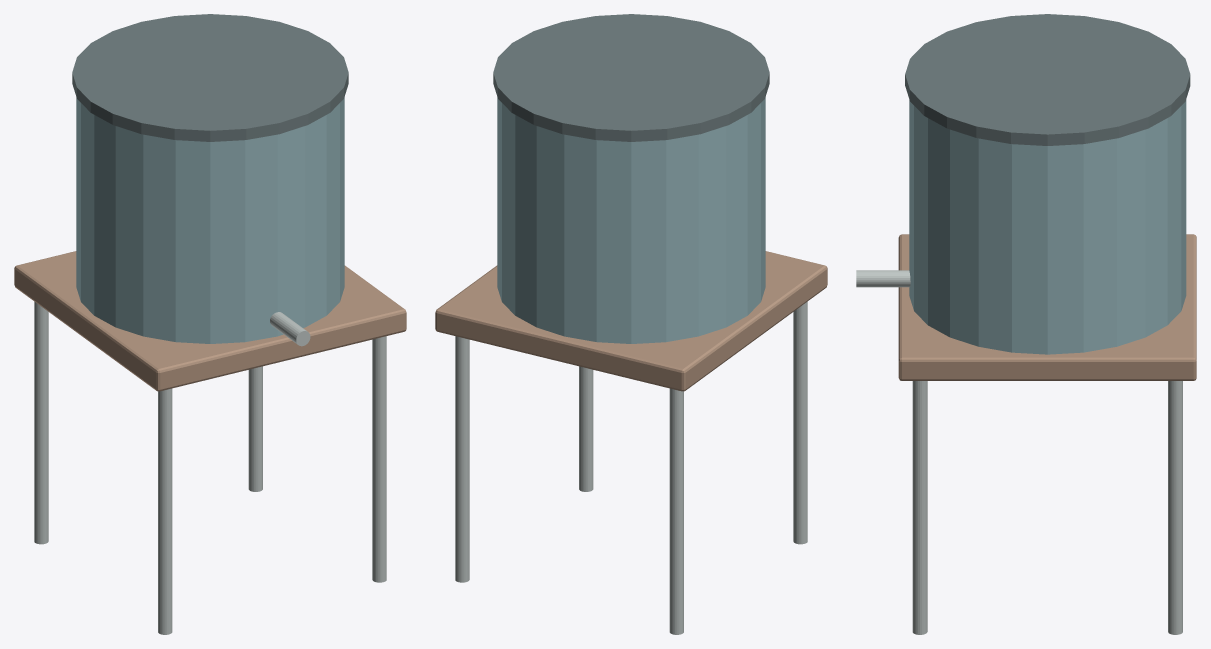
The picture shows the model from 3 angles, left to right: view 1: azimuth 30°, elevation 25°; view 2: azimuth 150°, elevation 25°; view 3: azimuth 270°, elevation 25°; orthographic projection. The views are drawn at different scales.
Parts seen in each view (by area): view 1: water tank, tank lid, tank platform, support.002, support, support.001, support.003, outlet; view 2: water tank, tank lid, tank platform, support.003, support.001, support, support.002; view 3: water tank, tank lid, tank platform, support.002, support.003, outlet.
Part boxes in pixels (x1,y1,x2,y2): water tank: (76, 97, 344, 343); tank lid: (72, 14, 348, 141); tank platform: (14, 251, 406, 391); support.002: (372, 336, 386, 582); support: (158, 388, 172, 634); support.001: (34, 301, 48, 544); support.003: (248, 366, 262, 491); outlet: (270, 312, 310, 346); water tank: (497, 97, 765, 343); tank lid: (493, 14, 769, 141); tank platform: (435, 251, 827, 391); support.003: (455, 336, 469, 582); support.001: (669, 388, 683, 634); support: (793, 301, 807, 544); support.002: (579, 366, 593, 491); water tank: (909, 100, 1186, 354); tank lid: (905, 14, 1190, 145); tank platform: (898, 234, 1196, 380); support.002: (912, 381, 927, 634); support.003: (1168, 381, 1182, 634); outlet: (856, 270, 910, 287).
Bounding box in the file's own units: 1.4 × 2.61 × 1.6.
